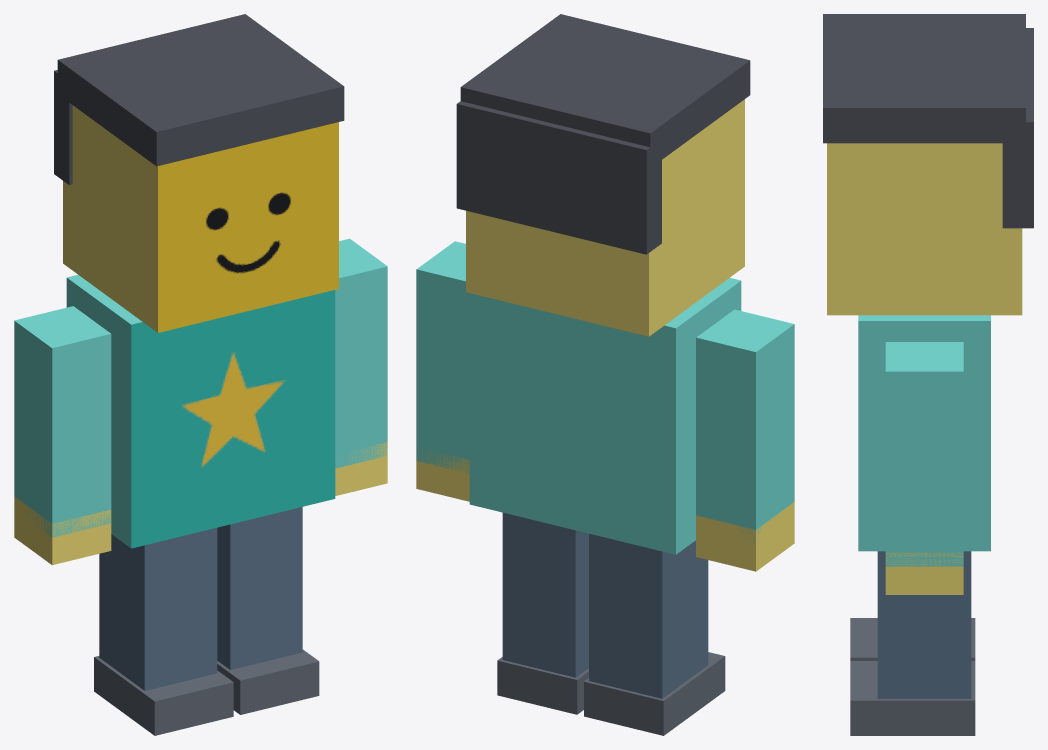
The model's file is danny.glb.
3 renders of one model, left to right at view 1: azimuth 30°, elevation 25°; view 2: azimuth 150°, elevation 25°; view 3: azimuth 270°, elevation 25°, orthographic. The views are drawn at different scales.
Bounding box in the file's own units: 1.02 × 1.79 × 0.54.
Materials: 8 (2 with a texture image).
